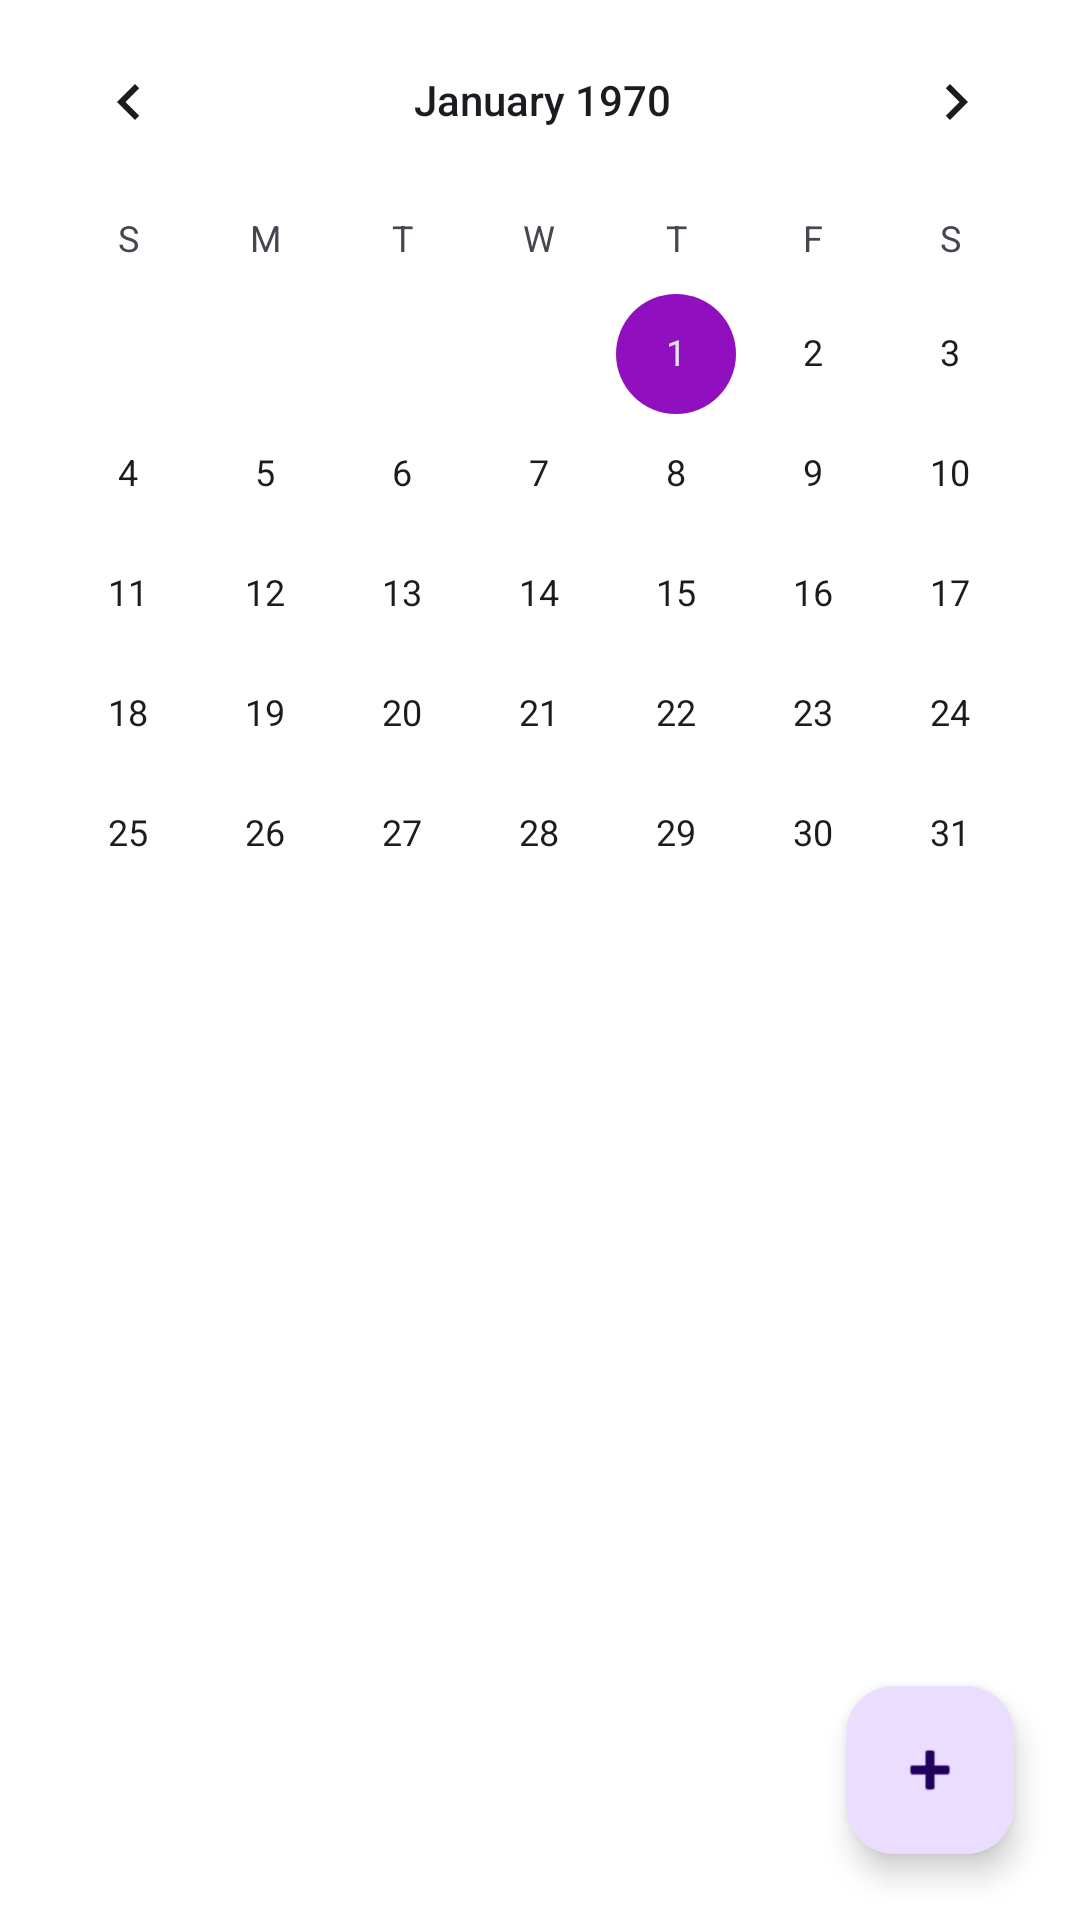

Screen size 1080px x 1920px. Icon name, then its center in pixels as (x=x, y=y):
add: (x=930, y=1770)
